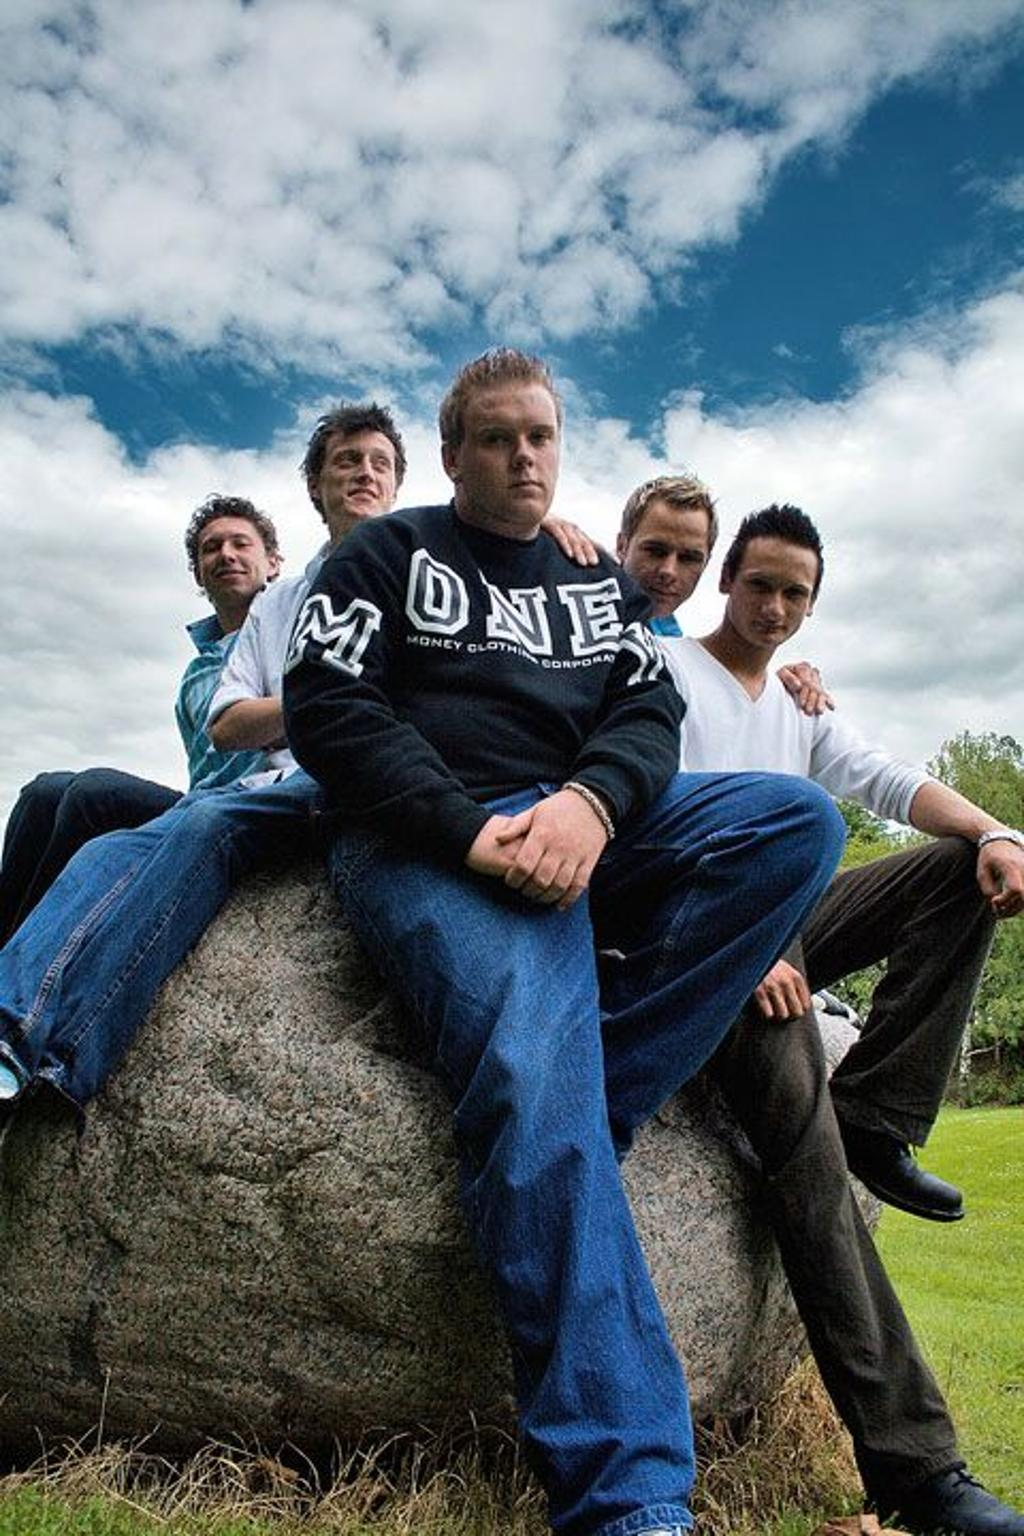face: (465, 384, 555, 516), (730, 541, 814, 646), (628, 507, 706, 618), (321, 435, 393, 513), (198, 517, 258, 598)
